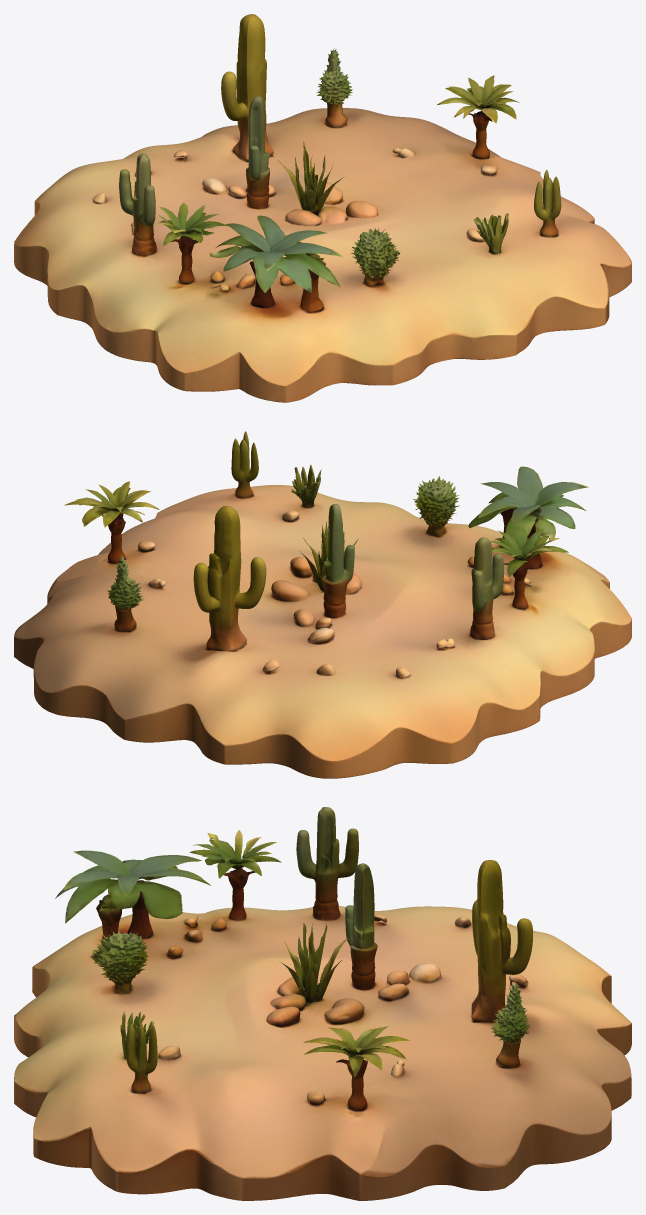
Rendered from desertT.glb.
3 renders of one model, top to bottom at view 1: azimuth 30°, elevation 25°; view 2: azimuth 150°, elevation 25°; view 3: azimuth 270°, elevation 25°, orthographic. The views are drawn at different scales.
Parts seen in each view (by area): view 1: model; view 2: model; view 3: model.
Part boxes in pixels (x1,y1,x2,y2): model: (14,14,631,402); model: (14,431,631,778); model: (14,807,631,1200).
Size of the model in its own units: 1.84 by 0.7115 by 1.84.
1 material, 1 textured.
